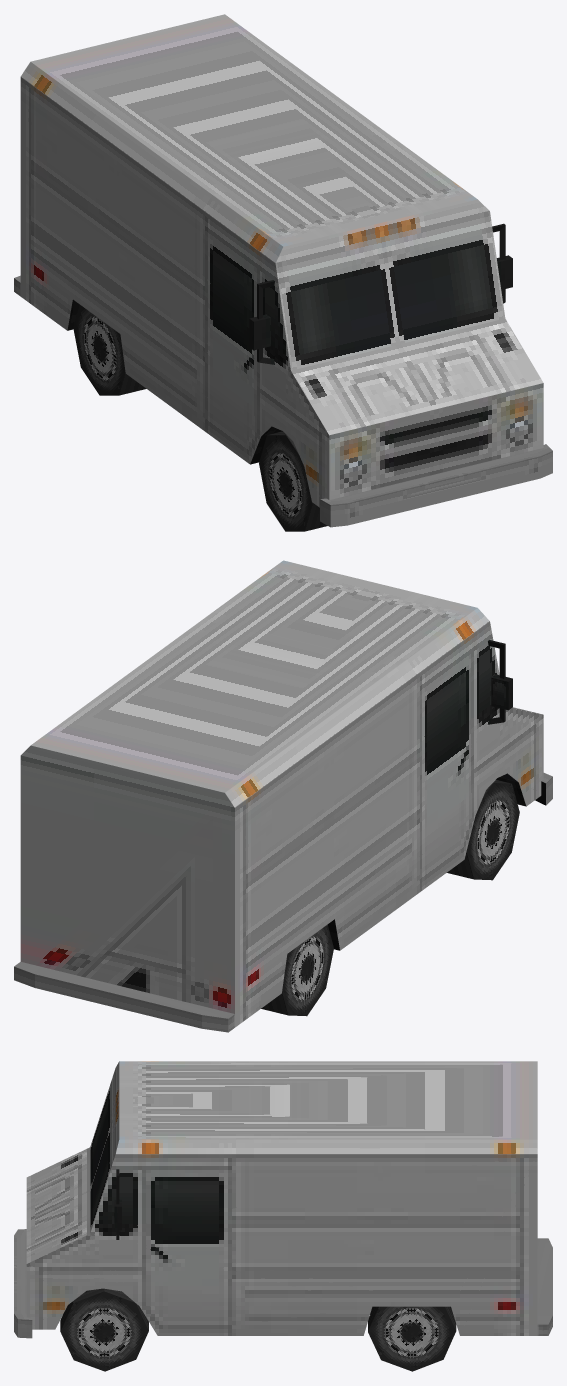
Rendered from car8.glb.
3 views of the same model, one above another, from view 1: azimuth 30°, elevation 25°; view 2: azimuth 150°, elevation 25°; view 3: azimuth 270°, elevation 25° (orthographic). The views are drawn at different scales.
Parts seen in each view (by area): view 1: Car8; view 2: Car8; view 3: Car8.
Part boxes in pixels (left/top/right/bottom): Car8: left=14, top=14, right=552, bottom=531; Car8: left=14, top=560, right=552, bottom=1032; Car8: left=14, top=1061, right=552, bottom=1371.
Bounding box in the file's own units: 3.17 × 3.23 × 6.89.
Materials: 1 (1 with a texture image).
